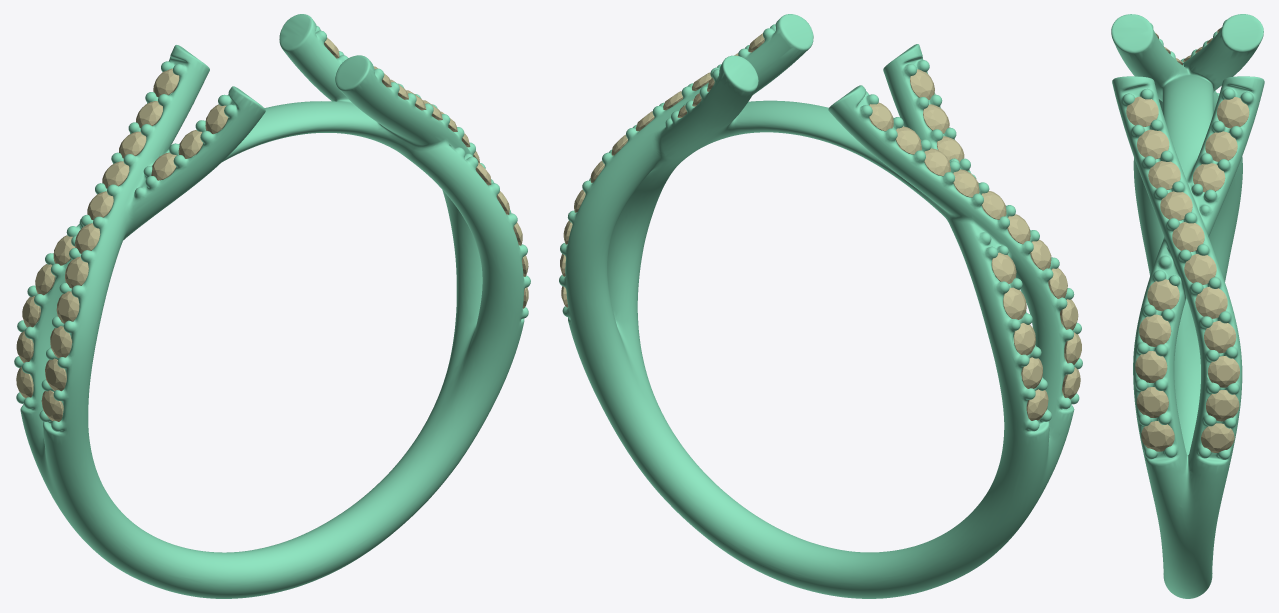
3 renders of one model, left to right at view 1: azimuth 30°, elevation 25°; view 2: azimuth 150°, elevation 25°; view 3: azimuth 270°, elevation 25°, orthographic.
Visible parts, largest first — view 1: Metal02; view 2: Metal02; view 3: Metal02, Diamond_Gem.020, Diamond_Gem.034, Diamond_Gem.026, Diamond_Gem.019, Diamond_Gem.021, Diamond_Gem.025, Diamond_Gem.022, Diamond_Gem.036, Diamond_Gem.024, Diamond_Gem.027, Diamond_Gem.032 (+8 smaller).
Part boxes in pixels (<box>): Metal02: <box>14,14,530,598</box>; Metal02: <box>559,14,1082,598</box>; Metal02: <box>1111,14,1264,598</box>; Diamond_Gem.020: <box>1139,314,1171,346</box>; Diamond_Gem.034: <box>1206,390,1239,421</box>; Diamond_Gem.026: <box>1195,286,1227,318</box>; Diamond_Gem.019: <box>1135,351,1167,382</box>; Diamond_Gem.021: <box>1147,279,1179,311</box>; Diamond_Gem.025: <box>1204,321,1236,353</box>; Diamond_Gem.022: <box>1141,421,1174,451</box>; Diamond_Gem.036: <box>1217,97,1249,128</box>; Diamond_Gem.024: <box>1208,356,1239,387</box>; Diamond_Gem.027: <box>1184,254,1216,284</box>; Diamond_Gem.032: <box>1136,387,1168,417</box>.
Bounding box in the file's own units: 21.15 × 22.52 × 5.92.
